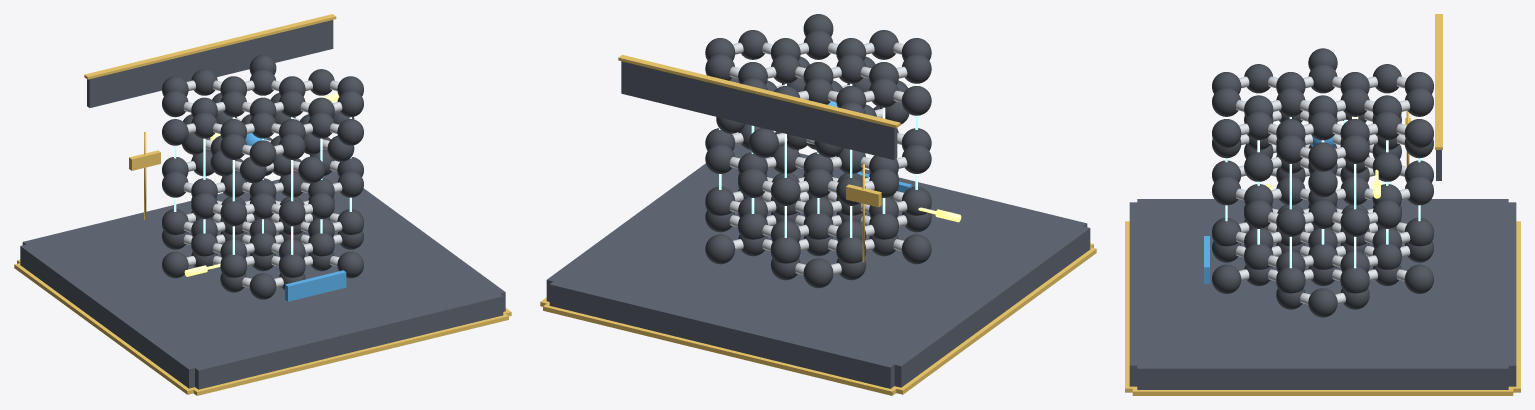
Rendered from graphite-lattice.glb.
3 views of the same model, side by side, from view 1: azimuth 30°, elevation 25°; view 2: azimuth 150°, elevation 25°; view 3: azimuth 270°, elevation 25° (orthographic). The views are drawn at different scales.
Parts seen in each view (by area): view 1: graphite-lattice-plinth, graphite-lattice-det-plinth, graphite-lattice-det-plaque-bg, graphite-lattice-plinth-rim, graphite-lattice-det-plaque-trim, graphite-lattice-det-plinth-rim, graphite-lattice-det-prop-badge, graphite-lattice-atom-l3-17, graphite-lattice-det-atom-up-16, graphite-lattice-atom-l1-17, graphite-lattice-atom-l3-3, graphite-lattice-atom-l3-24 (+32 smaller); view 2: graphite-lattice-det-plinth, graphite-lattice-plinth, graphite-lattice-det-plaque-bg, graphite-lattice-plinth-rim, graphite-lattice-det-plaque-trim, graphite-lattice-det-plinth-rim, graphite-lattice-atom-l1-1, graphite-lattice-atom-l1-3, graphite-lattice-atom-l1-9, graphite-lattice-atom-l3-3, graphite-lattice-atom-l2-3, graphite-lattice-det-atom-up-3 (+27 smaller); view 3: graphite-lattice-det-plinth, graphite-lattice-plinth, graphite-lattice-det-plinth-rim, graphite-lattice-plinth-rim, graphite-lattice-det-plaque-trim, graphite-lattice-det-atom-up-17, graphite-lattice-atom-l1-23, graphite-lattice-atom-l3-23, graphite-lattice-atom-l1-9, graphite-lattice-atom-l1-24, graphite-lattice-atom-l2-18, graphite-lattice-atom-l2-23 (+56 smaller).
Part boxes in pixels (bbox=[...]): graphite-lattice-plinth: bbox=[22, 171, 503, 389]; graphite-lattice-det-plinth: bbox=[20, 170, 505, 388]; graphite-lattice-det-plaque-bg: bbox=[87, 20, 333, 107]; graphite-lattice-plinth-rim: bbox=[17, 259, 508, 395]; graphite-lattice-det-plaque-trim: bbox=[84, 14, 336, 79]; graphite-lattice-det-plinth-rim: bbox=[14, 263, 511, 394]; graphite-lattice-det-prop-badge: bbox=[285, 270, 346, 301]; graphite-lattice-atom-l3-17: bbox=[249, 140, 276, 166]; graphite-lattice-det-atom-up-16: bbox=[298, 156, 324, 183]; graphite-lattice-atom-l1-17: bbox=[249, 273, 276, 299]; graphite-lattice-atom-l3-3: bbox=[162, 119, 188, 145]; graphite-lattice-atom-l3-24: bbox=[337, 119, 363, 145]; graphite-lattice-det-plinth: bbox=[546, 143, 1090, 387]; graphite-lattice-plinth: bbox=[549, 145, 1087, 388]; graphite-lattice-det-plaque-bg: bbox=[621, 61, 897, 159]; graphite-lattice-plinth-rim: bbox=[543, 243, 1093, 395]; graphite-lattice-det-plaque-trim: bbox=[618, 54, 900, 128]; graphite-lattice-det-plinth-rim: bbox=[540, 247, 1096, 394]; graphite-lattice-atom-l1-1: bbox=[803, 258, 833, 288]; graphite-lattice-atom-l1-3: bbox=[901, 234, 931, 264]; graphite-lattice-atom-l1-9: bbox=[705, 234, 735, 264]; graphite-lattice-atom-l3-3: bbox=[901, 86, 931, 115]; graphite-lattice-atom-l2-3: bbox=[770, 176, 800, 205]; graphite-lattice-det-atom-up-3: bbox=[749, 128, 778, 157]; graphite-lattice-det-plinth: bbox=[1137, 199, 1508, 389]; graphite-lattice-plinth: bbox=[1129, 202, 1516, 386]; graphite-lattice-det-plinth-rim: bbox=[1132, 388, 1513, 395]; graphite-lattice-plinth-rim: bbox=[1125, 221, 1520, 392]; graphite-lattice-det-plaque-trim: bbox=[1435, 14, 1442, 149]; graphite-lattice-det-atom-up-17: bbox=[1244, 152, 1273, 181]; graphite-lattice-atom-l1-23: bbox=[1308, 288, 1337, 317]; graphite-lattice-atom-l3-23: bbox=[1308, 142, 1337, 171]; graphite-lattice-atom-l1-9: bbox=[1404, 264, 1433, 293]; graphite-lattice-atom-l1-24: bbox=[1212, 264, 1241, 293]; graphite-lattice-atom-l2-18: bbox=[1340, 207, 1369, 236]; graphite-lattice-atom-l2-23: bbox=[1276, 207, 1305, 236].
Size of the model in its own units: 0.266 by 0.163 by 0.256.
